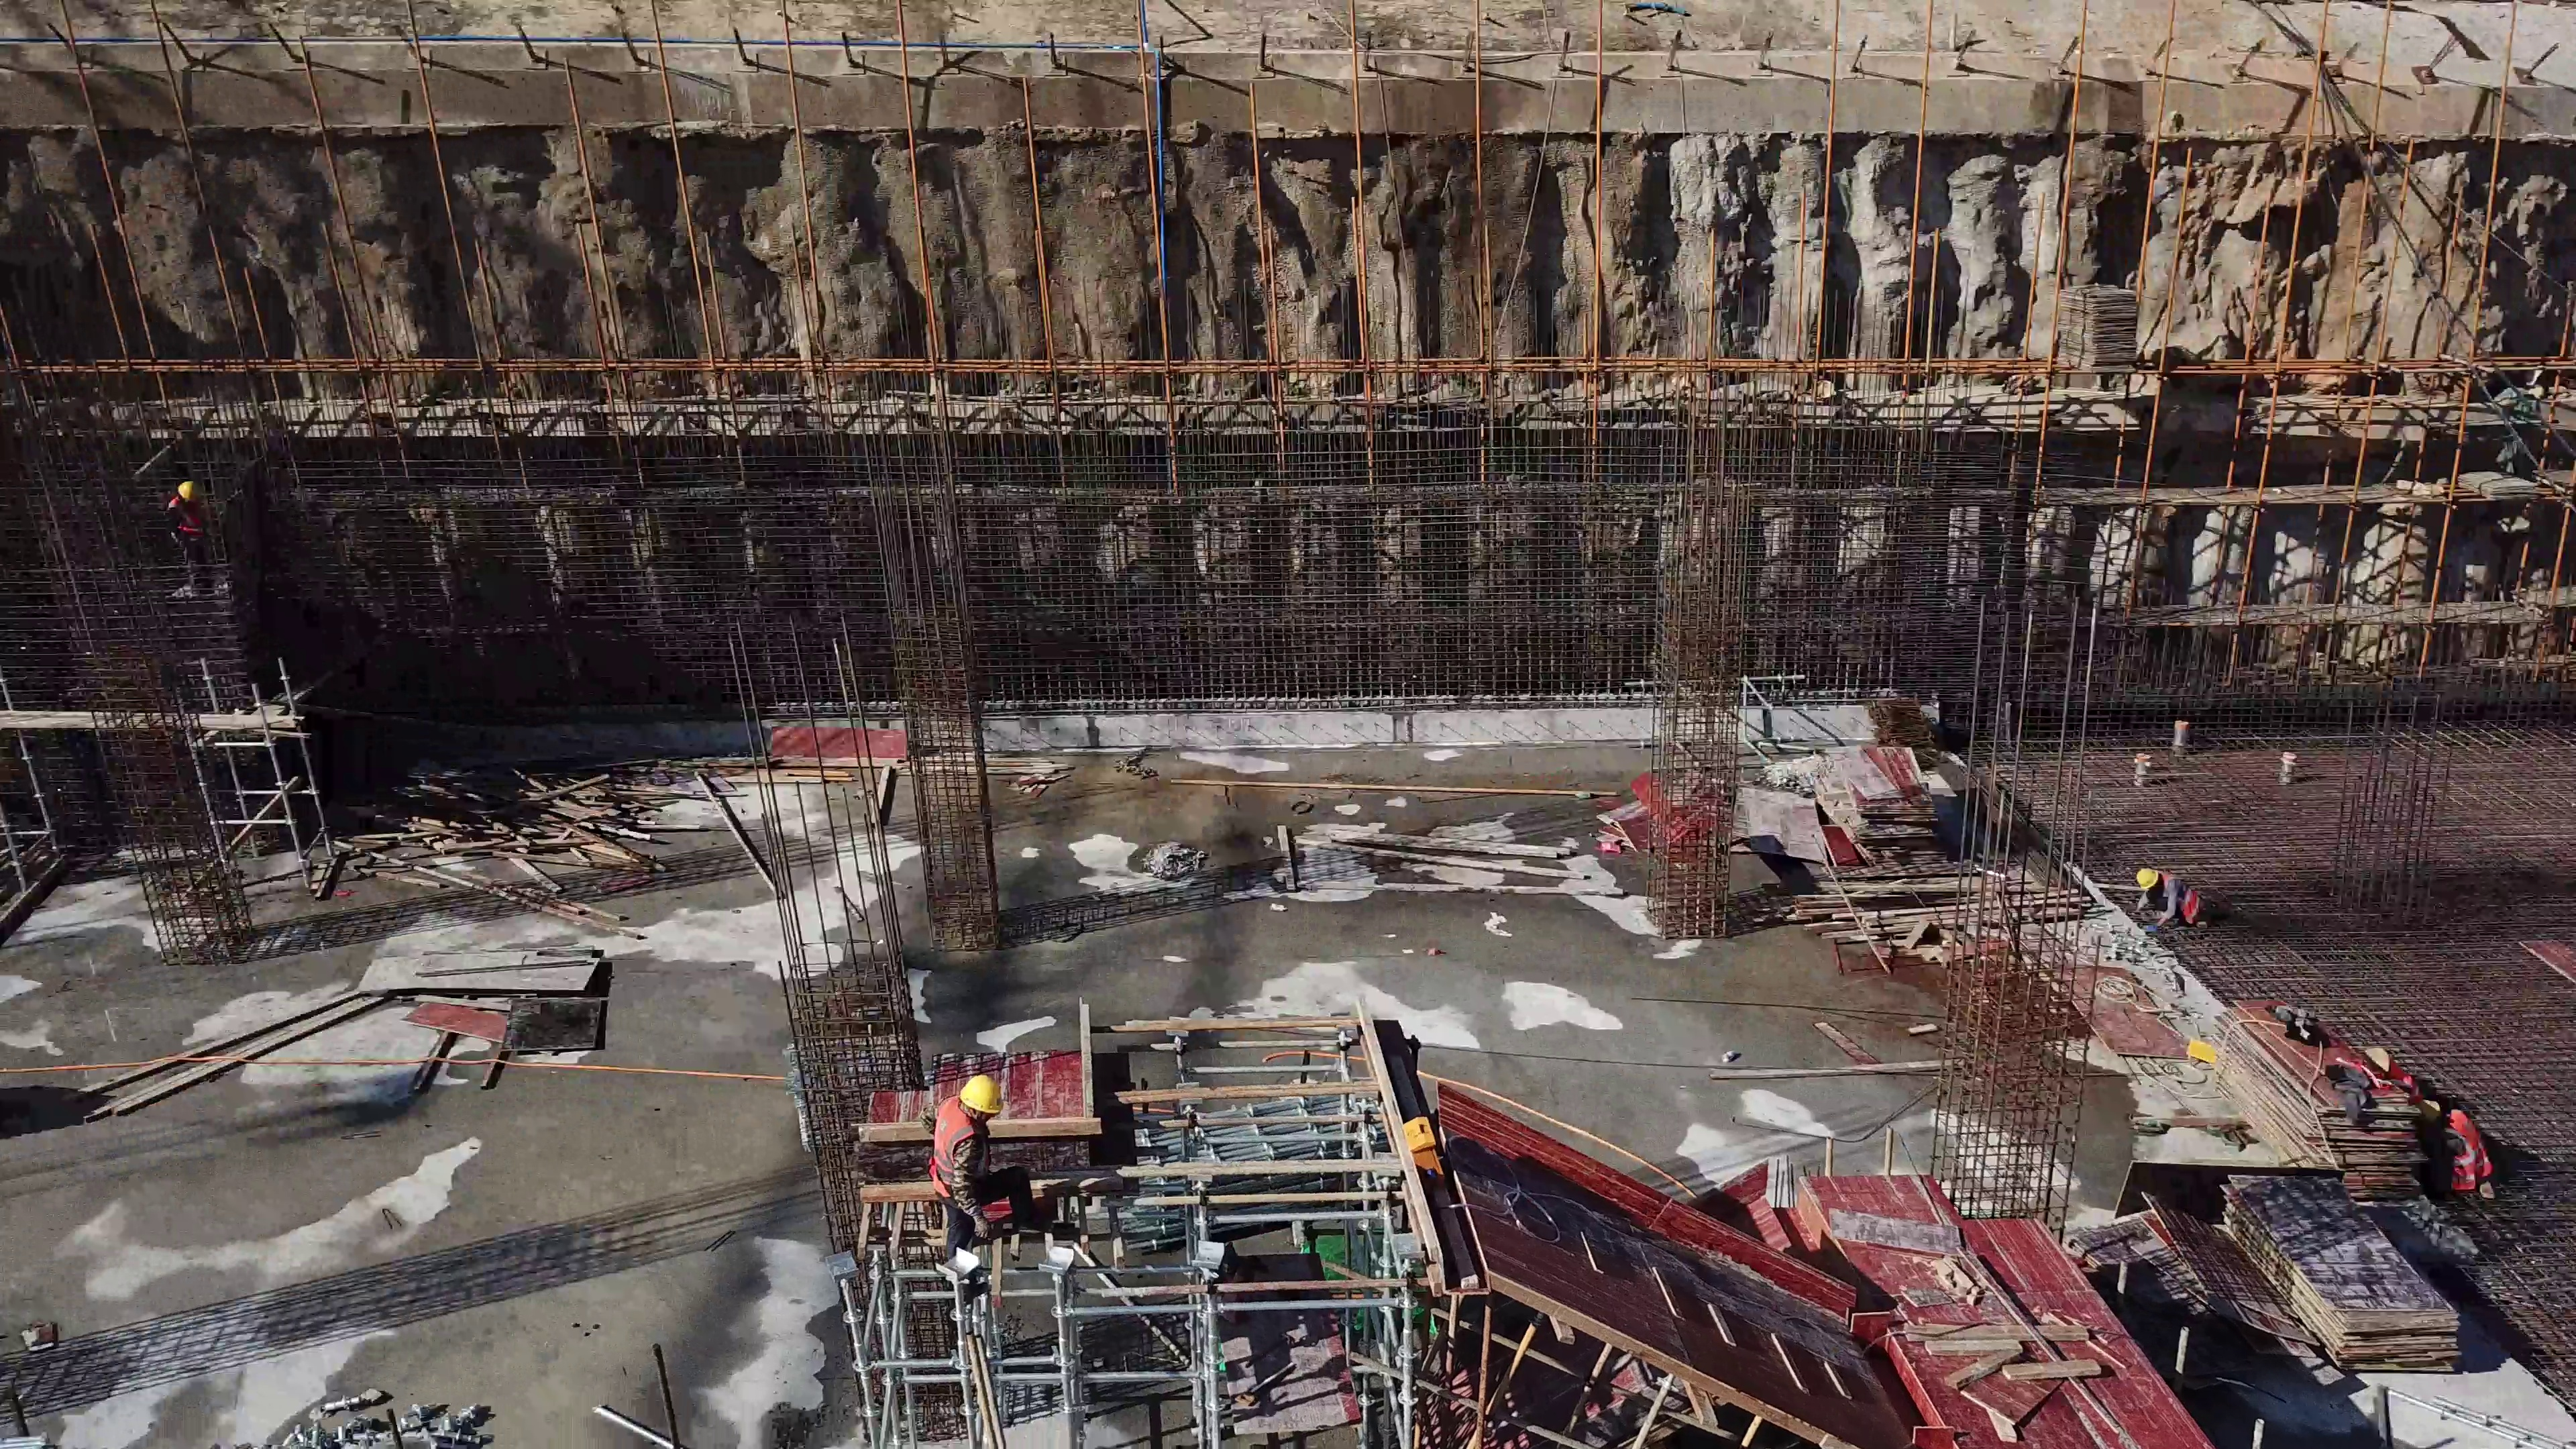helmet: (954, 1071, 1003, 1114), (2137, 865, 2160, 892)
person: (913, 1046, 1012, 1246), (2127, 857, 2215, 940)
vest: (932, 1098, 982, 1200), (2166, 872, 2204, 921)
